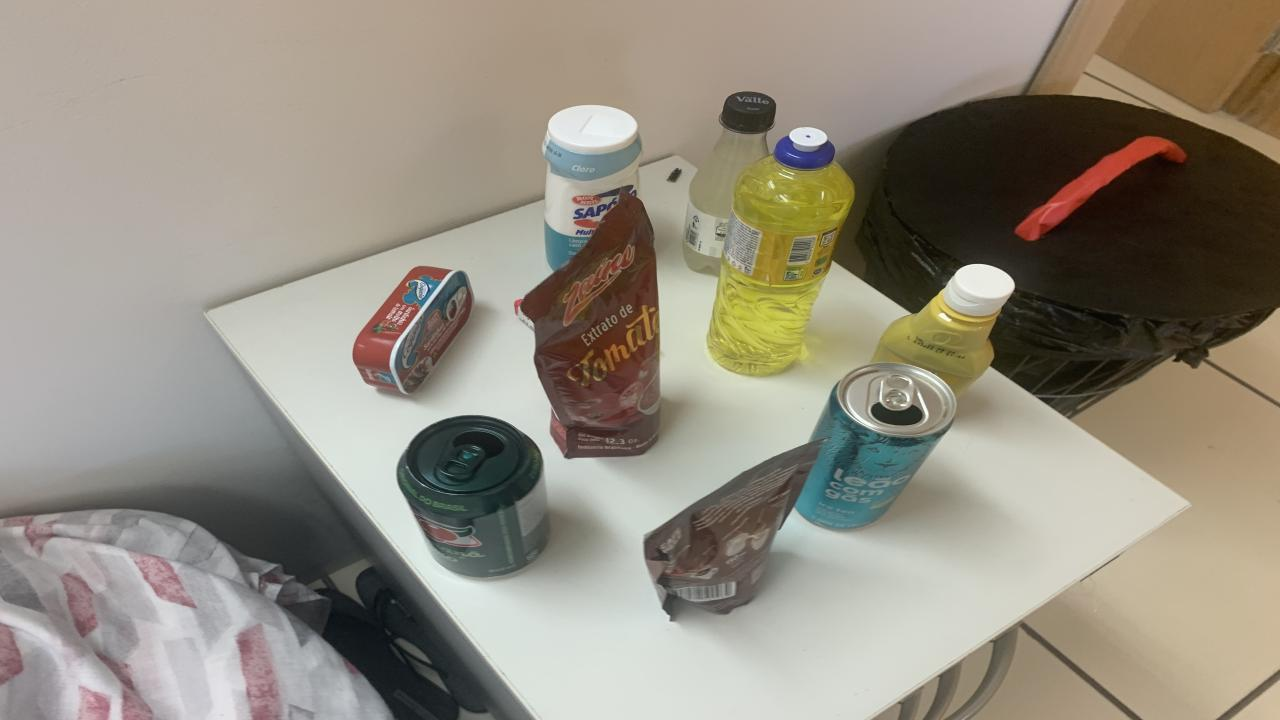Cleaner-Cleanup_Items: (542, 105, 642, 270)
Coffee-Pantry_Items: (645, 441, 820, 615)
Detergent-Cleanup_Items: (708, 128, 855, 375)
Guarana_Can-Drinks: (398, 416, 550, 578)
Soda-Drinks: (682, 92, 775, 276)
Tea-Drinks: (795, 362, 955, 529)
Tomato_Sauce-Pantry_Items: (518, 193, 660, 458)
Tuna_Can-Pantry_Items: (352, 266, 472, 394)
